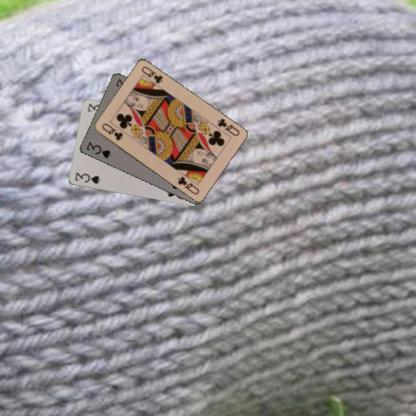3s: (84, 140, 112, 160), (72, 170, 101, 186)
Qc: (214, 115, 240, 138), (98, 120, 124, 142)
